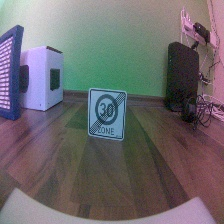dreisiger_zone_ende: (87, 88, 127, 142)
